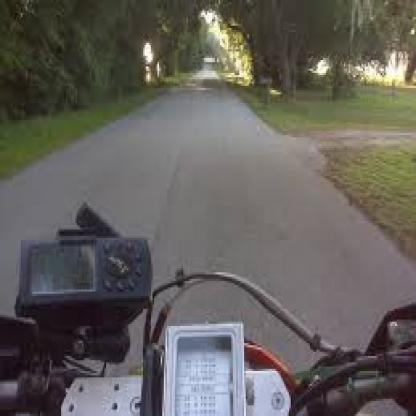car: (0, 169, 416, 416)
